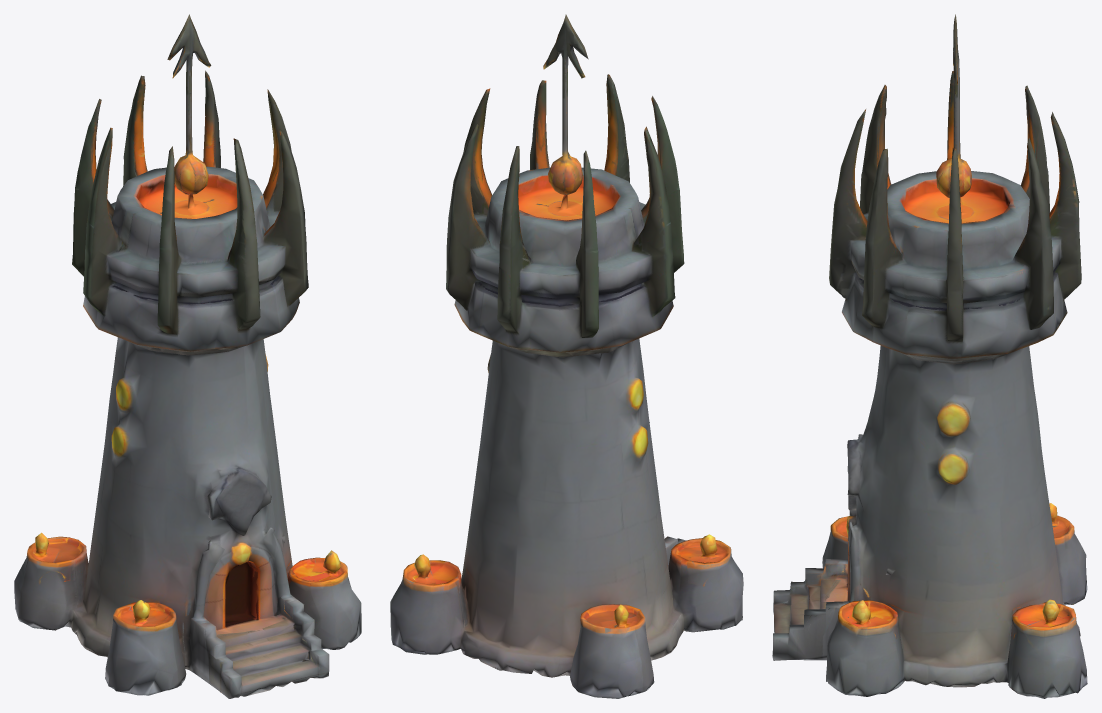
File: Tower.Mage.glb
The picture shows the model from 3 angles, left to right: view 1: azimuth 30°, elevation 25°; view 2: azimuth 150°, elevation 25°; view 3: azimuth 270°, elevation 25°; orthographic projection. The views are drawn at different scales.
Visible parts, largest first — view 1: Mesh_0; view 2: Mesh_0; view 3: Mesh_0.
Part boxes in pixels (left/top/right/bottom): Mesh_0: left=14, top=14, right=361, bottom=698; Mesh_0: left=390, top=14, right=743, bottom=698; Mesh_0: left=772, top=14, right=1087, bottom=698.
Bounding box in the file's own units: 0.8655 × 2 × 0.916.
Materials: 1 (1 with a texture image).
